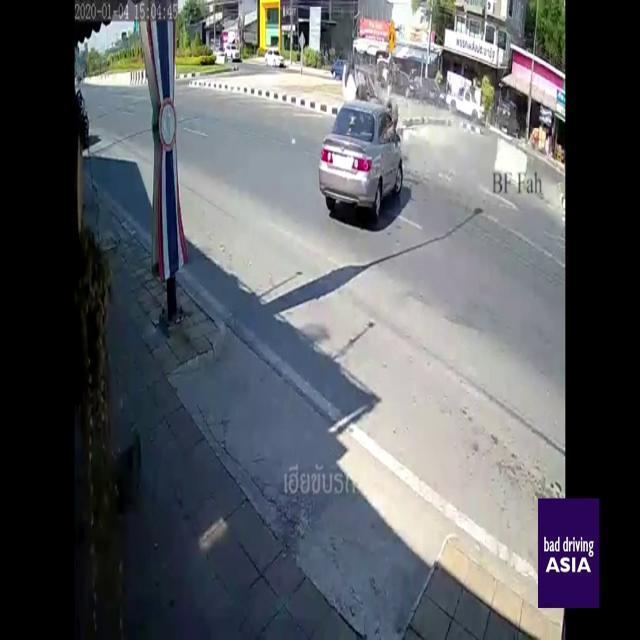accident: (314, 65, 412, 229)
